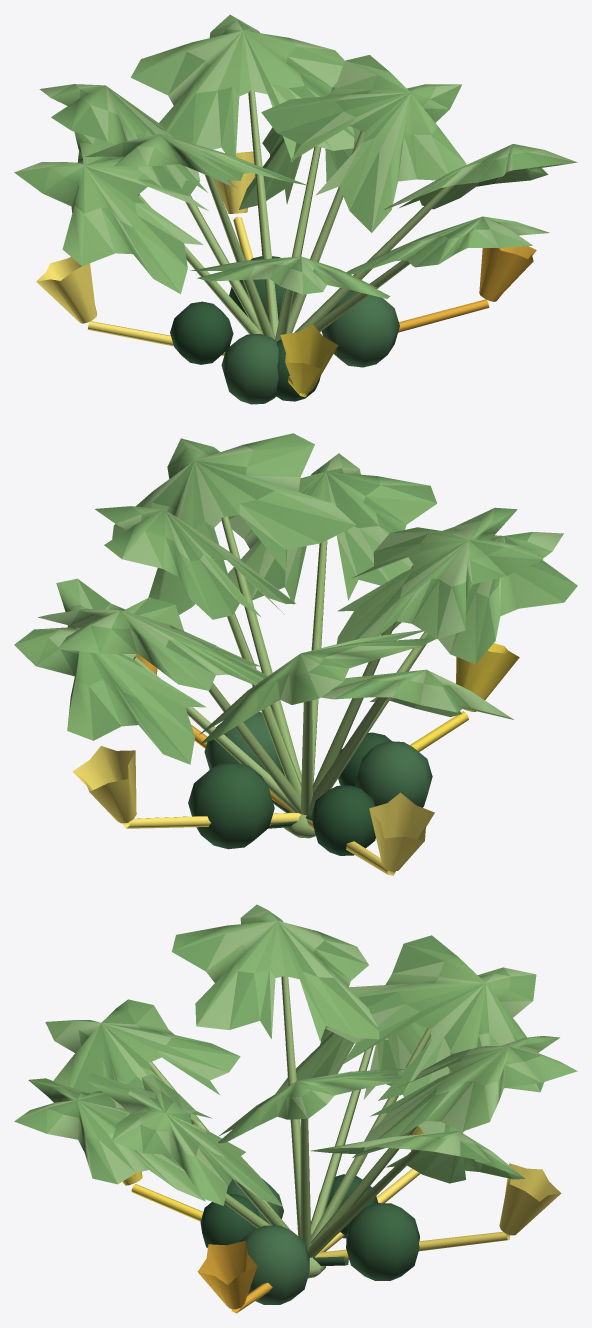
The model's file is courgette_ronde_mur.glb.
3 renders of one model, top to bottom at view 1: azimuth 30°, elevation 25°; view 2: azimuth 150°, elevation 25°; view 3: azimuth 270°, elevation 25°, orthographic. The views are drawn at different scales.
Visible parts, largest first — view 1: Courgette_Feuilles, Courgette_Fruits, Courgette_Petioles, Courgette_Fleurs; view 2: Courgette_Feuilles, Courgette_Fruits, Courgette_Petioles, Courgette_Fleurs; view 3: Courgette_Feuilles, Courgette_Fruits, Courgette_Petioles, Courgette_Fleurs.
Part boxes in pixels (x1,y1,x2,y2): Courgette_Feuilles: [14, 14, 577, 298]; Courgette_Fruits: [170, 256, 399, 404]; Courgette_Petioles: [137, 90, 455, 341]; Courgette_Fleurs: [36, 151, 536, 397]; Courgette_Feuilles: [14, 433, 577, 764]; Courgette_Fruits: [188, 712, 432, 855]; Courgette_Petioles: [133, 516, 427, 815]; Courgette_Fleurs: [72, 643, 519, 875]; Courgette_Feuilles: [14, 904, 577, 1206]; Courgette_Fruits: [200, 1174, 419, 1304]; Courgette_Petioles: [148, 976, 431, 1257]; Courgette_Fleurs: [122, 1126, 561, 1313].
Size of the model in its own units: 0.8093 by 0.5214 by 0.9198.
